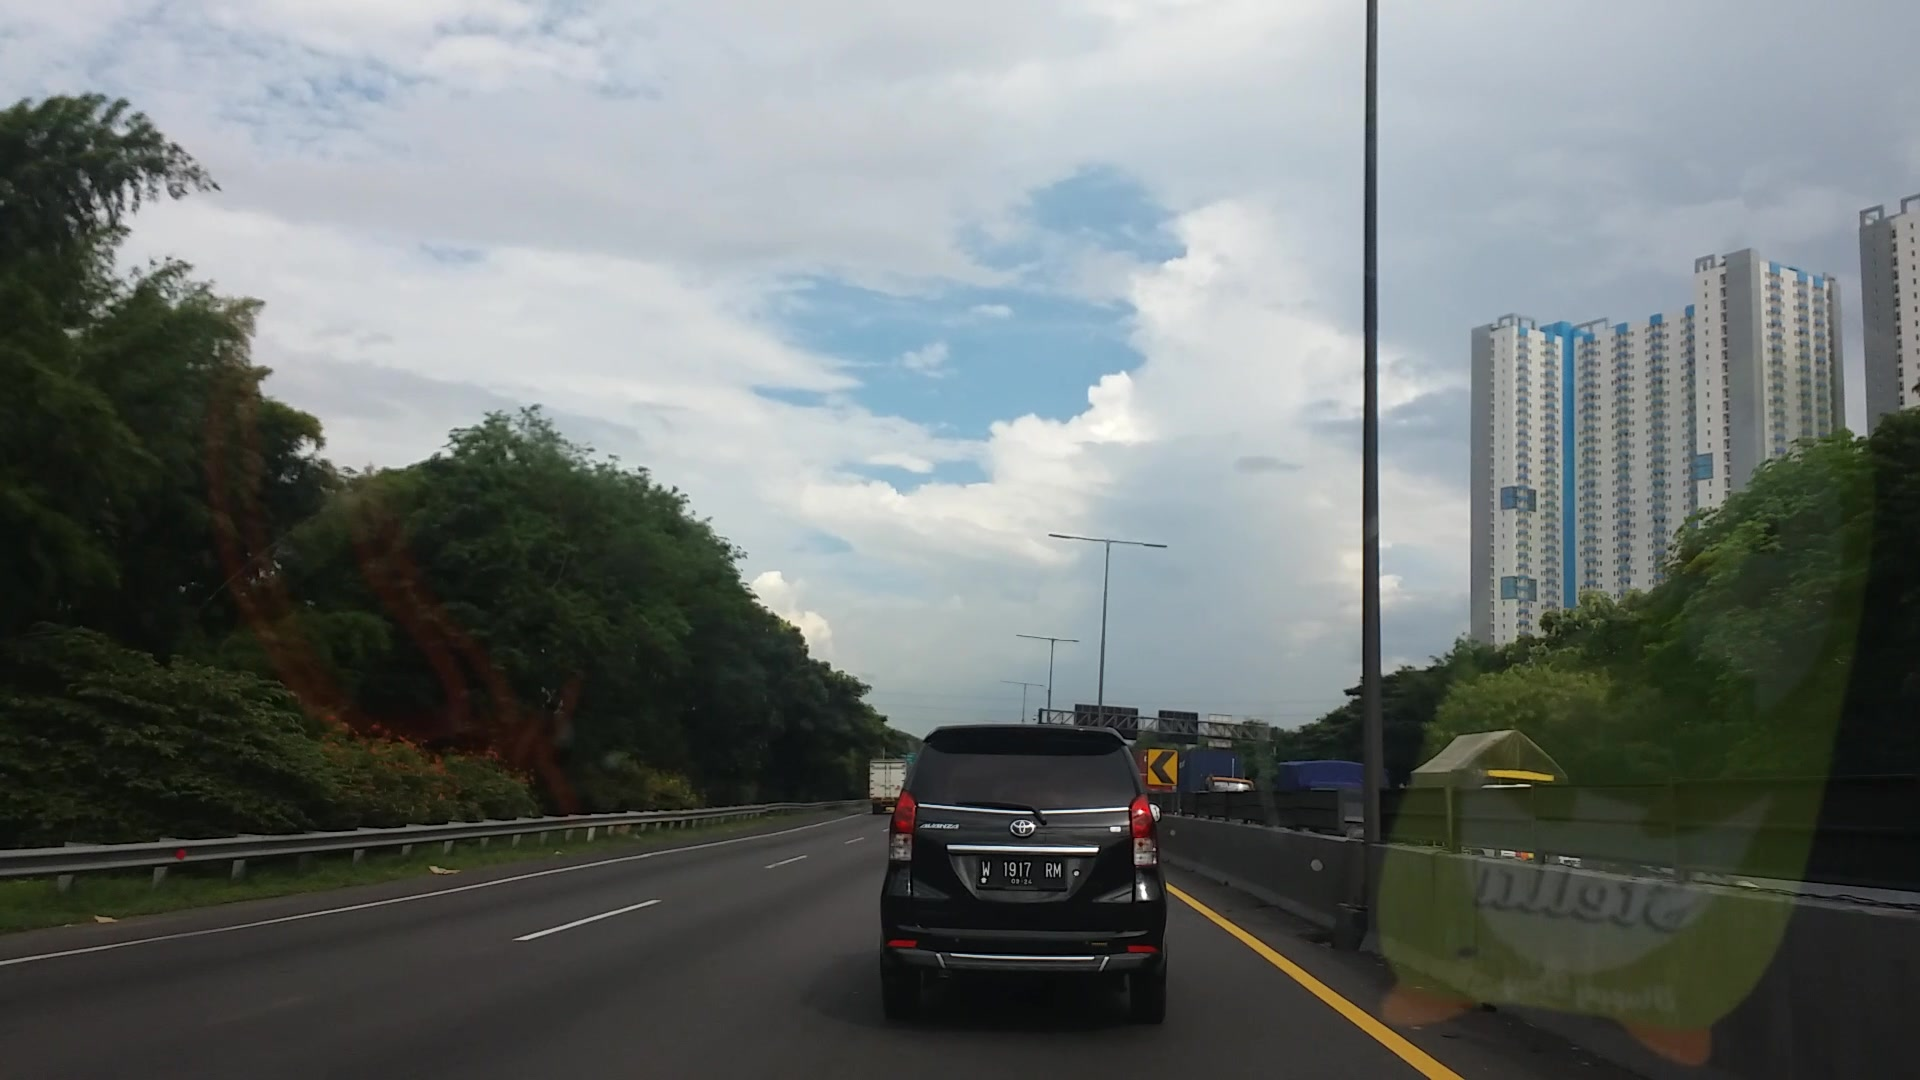plate_positive: (977, 858, 1064, 886)
